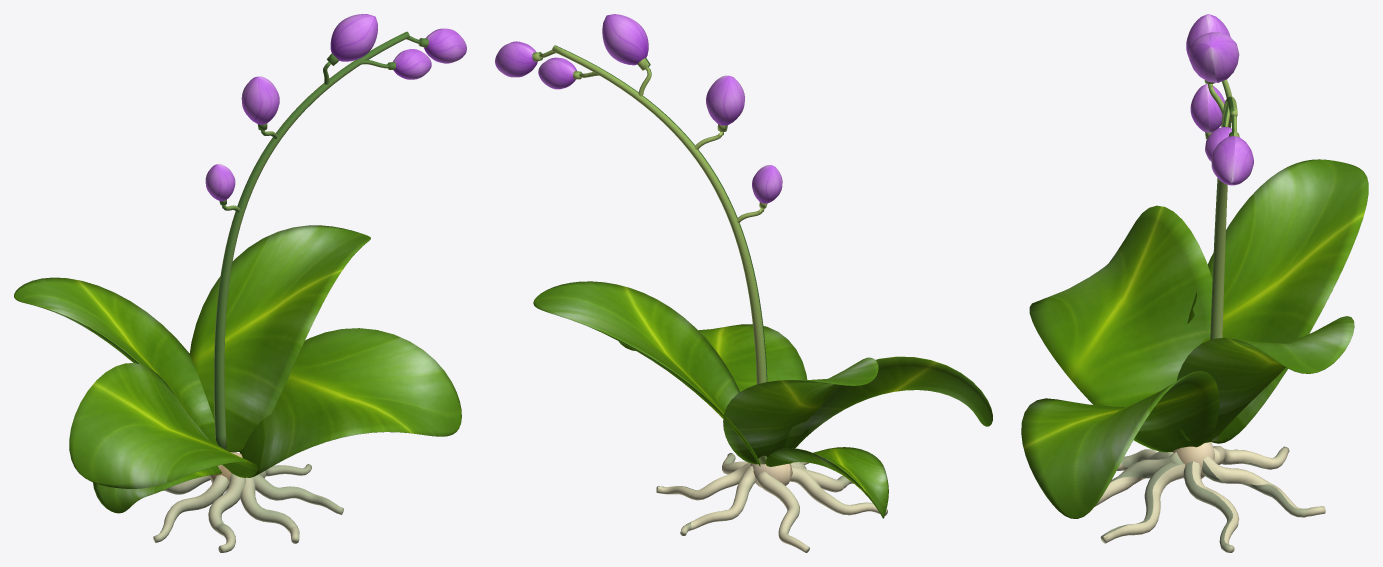
The model's file is NP_Orchid_BudForming.fbx.
3 views of the same model, side by side, from view 1: azimuth 30°, elevation 25°; view 2: azimuth 150°, elevation 25°; view 3: azimuth 270°, elevation 25° (orthographic). The views are drawn at different scales.
Parts seen in each view (by area): view 1: NP_Orchid_BudForming; view 2: NP_Orchid_BudForming; view 3: NP_Orchid_BudForming.
Part boxes in pixels (box(x1,y1,x2,y2)): NP_Orchid_BudForming: box(14, 14, 466, 552); NP_Orchid_BudForming: box(495, 14, 992, 552); NP_Orchid_BudForming: box(1021, 14, 1368, 552).
Bounding box in the file's own units: 90.22 × 88.23 × 50.87.
1 material, 1 textured.
